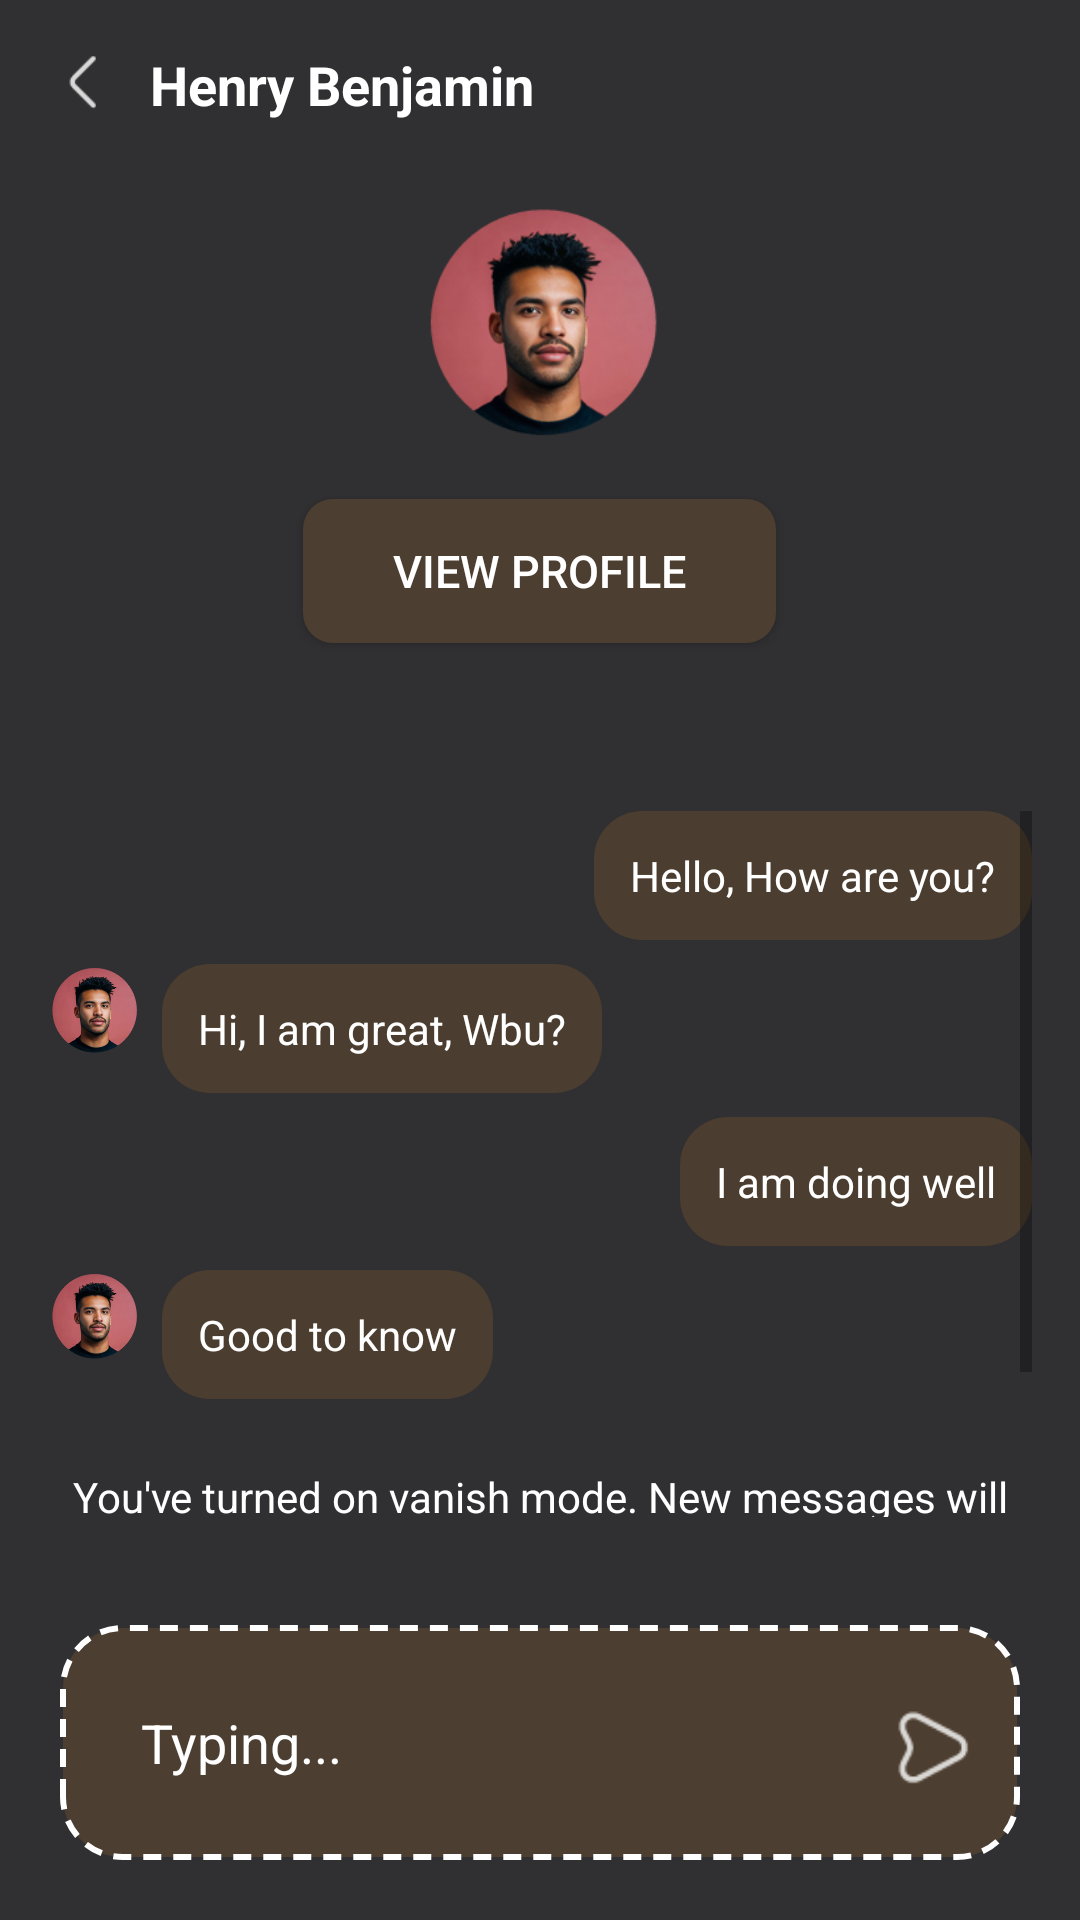

Icon bounding boxes for this 1080 x 1920 phone screenshot, format (x1, y1, x2, y2):
darkbg pfp: (430, 209, 657, 435), (52, 968, 137, 1052), (52, 1274, 137, 1358)
send: (898, 1711, 968, 1783)
vanish back: (69, 56, 96, 108)
